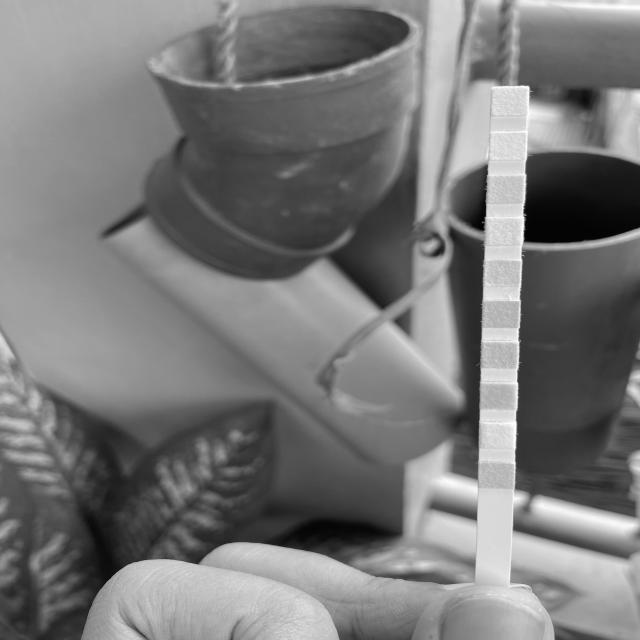Bilirubin: (479, 422, 516, 448)
Blood: (483, 300, 519, 328)
Glucose: (479, 463, 514, 488)
Ketone: (480, 382, 518, 409)
Leukocytes: (492, 88, 528, 114)
Nitrite: (490, 133, 526, 159)
Protein: (486, 218, 522, 245)
SpGravity: (481, 342, 519, 367)
Urobilinogen: (487, 176, 525, 203)
background: (0, 0, 640, 640)
pH: (484, 260, 520, 286)
strip: (477, 86, 526, 582)
